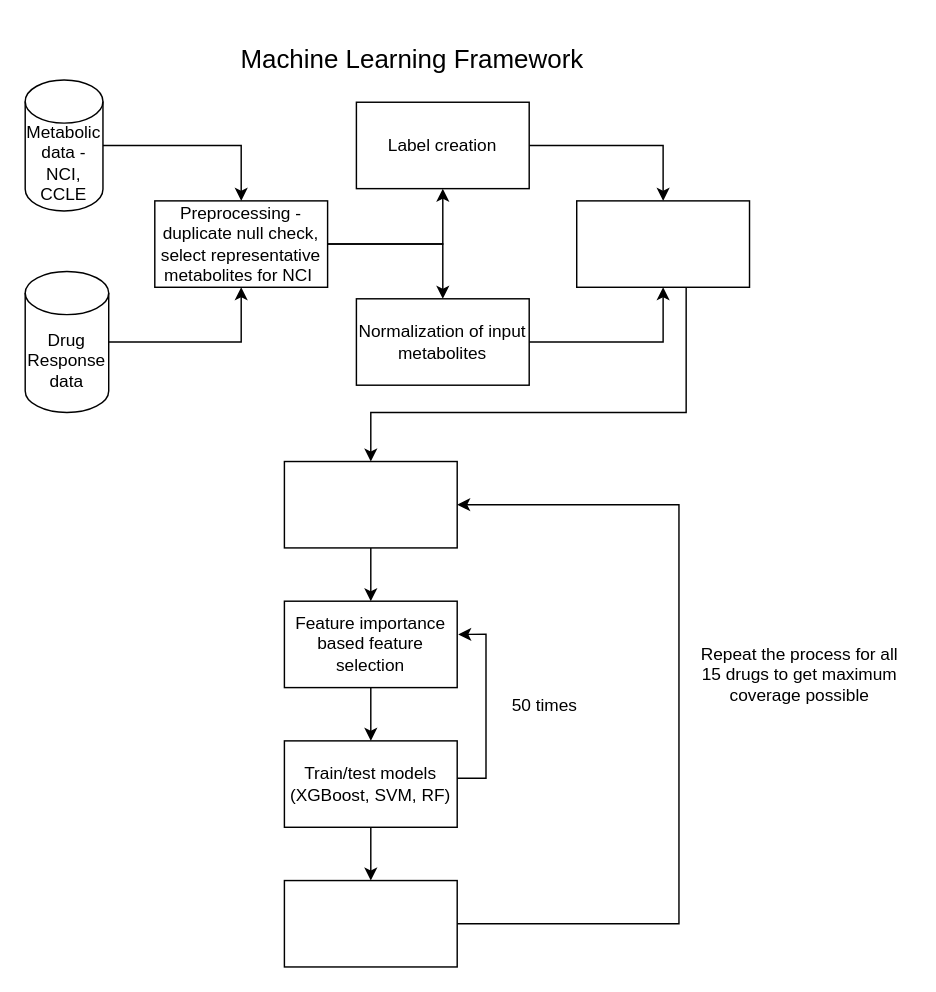
Image size: 936x992. Some labels were removed from this diagram. The box of each missing label's shape, as (x1, y1, x2, y2) in pixels:
SMOTE: (575, 199, 750, 287)
Train Test Split - 80/20: (283, 460, 457, 548)
Use probability score as threshold to determine cell lines with 100% precision: (283, 879, 457, 967)
